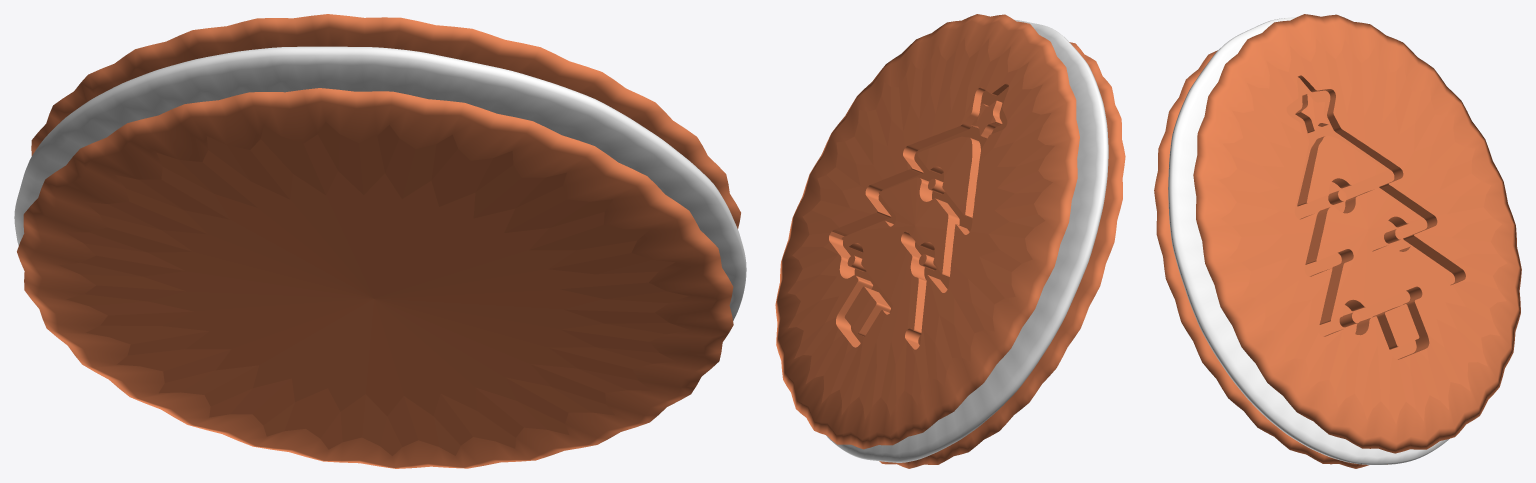
Rendered from cookie.glb.
The picture shows the model from 3 angles, left to right: view 1: azimuth 30°, elevation 25°; view 2: azimuth 150°, elevation 25°; view 3: azimuth 270°, elevation 25°; orthographic projection. The views are drawn at different scales.
Parts seen in each view (by area): view 1: oreo.001; view 2: oreo.001; view 3: oreo.001.
Part boxes in pixels (x1,y1,x2,y2): oreo.001: (14,14,746,468); oreo.001: (775,14,1125,468); oreo.001: (1154,14,1521,468).
Size of the model in its own units: 4.82 by 4.57 by 4.07.
